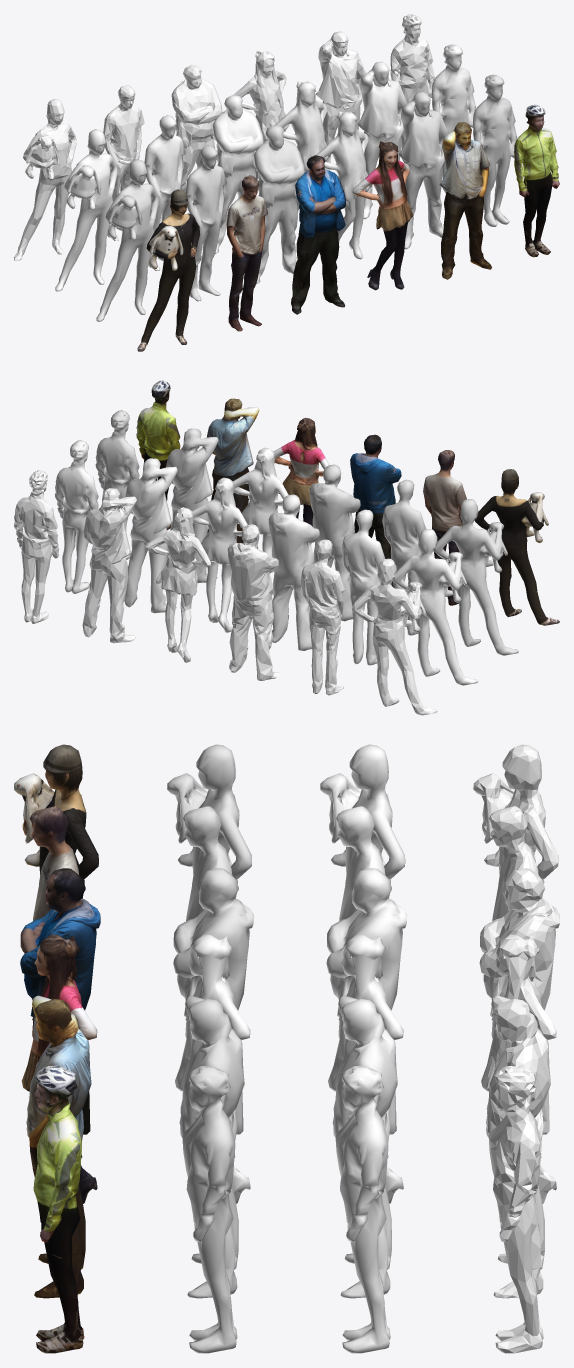
The model's file is wip_-_lowpoly_people_-_2.glb.
3 renders of one model, top to bottom at view 1: azimuth 30°, elevation 25°; view 2: azimuth 150°, elevation 25°; view 3: azimuth 270°, elevation 25°, orthographic. The views are drawn at different scales.
Visible parts, largest first — view 1: 03_person.003, 05_person.003, 01_person.003, 03_person, 01_person.001, 01_person, 01_person.002, 05_person, 06_person.003, 02_person.003, 04_person.003, 06_person (+12 smaller); view 2: 03_person.002, 05_person.002, 01_person.002, 01_person.001, 01_person, 01_person.003, 03_person.001, 05_person.001, 02_person.002, 04_person.002, 06_person.002, 06_person.001 (+12 smaller); view 3: 06_person.001, 06_person, 06_person.002, 06_person.003, 05_person, 05_person.003, 05_person.002, 05_person.001, 03_person.001, 03_person, 03_person.002, 03_person.003 (+12 smaller).
Boxes of the visible parts, x1=… form: 03_person.003: x1=291, y1=155, x2=345, y2=314; 05_person.003: x1=439, y1=122, x2=491, y2=279; 01_person.003: x1=137, y1=189, x2=199, y2=351; 03_person: x1=254, y1=125, x2=304, y2=284; 01_person.001: x1=55, y1=129, x2=117, y2=291; 01_person: x1=96, y1=159, x2=158, y2=321; 01_person.002: x1=14, y1=99, x2=76, y2=261; 05_person: x1=398, y1=91, x2=448, y2=249; 06_person.003: x1=514, y1=104, x2=559, y2=257; 02_person.003: x1=226, y1=175, x2=267, y2=331; 04_person.003: x1=352, y1=141, x2=413, y2=290; 06_person: x1=473, y1=74, x2=517, y2=226; 03_person.002: x1=227, y1=524, x2=280, y2=680; 05_person.002: x1=82, y1=488, x2=136, y2=643; 01_person.002: x1=351, y1=558, x2=437, y2=715; 01_person.001: x1=393, y1=529, x2=478, y2=685; 01_person: x1=434, y1=499, x2=518, y2=655; 01_person.003: x1=474, y1=469, x2=559, y2=625; 03_person.001: x1=268, y1=494, x2=319, y2=650; 05_person.001: x1=124, y1=458, x2=177, y2=613; 02_person.002: x1=300, y1=539, x2=344, y2=695; 04_person.002: x1=145, y1=507, x2=210, y2=662; 06_person.002: x1=14, y1=470, x2=59, y2=623; 06_person.001: x1=55, y1=440, x2=98, y2=593; 06_person.001: x1=340, y1=1066, x2=390, y2=1353; 06_person: x1=186, y1=1066, x2=237, y2=1353; 06_person.002: x1=493, y1=1066, x2=543, y2=1353; 06_person.003: x1=33, y1=1066, x2=84, y2=1353; 05_person: x1=179, y1=995, x2=244, y2=1298; 05_person.003: x1=26, y1=995, x2=91, y2=1298; 05_person.002: x1=486, y1=995, x2=550, y2=1298; 05_person.001: x1=332, y1=995, x2=397, y2=1298; 03_person.001: x1=326, y1=868, x2=406, y2=1157; 03_person: x1=173, y1=868, x2=253, y2=1157; 03_person.002: x1=479, y1=868, x2=559, y2=1157; 03_person.003: x1=20, y1=868, x2=100, y2=1157.
Bounding box in the file's own units: 296 × 101 × 178.
13 materials, 6 textured.
